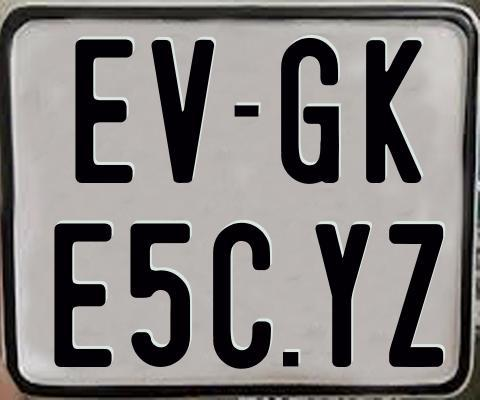5: (128, 223, 190, 371)
C: (210, 222, 272, 371)
E: (72, 39, 132, 185), (54, 221, 112, 365)
G: (281, 36, 343, 187)
K: (365, 38, 423, 186)
V: (148, 38, 213, 181)
Y: (313, 221, 372, 368)
Z: (388, 221, 447, 365)
